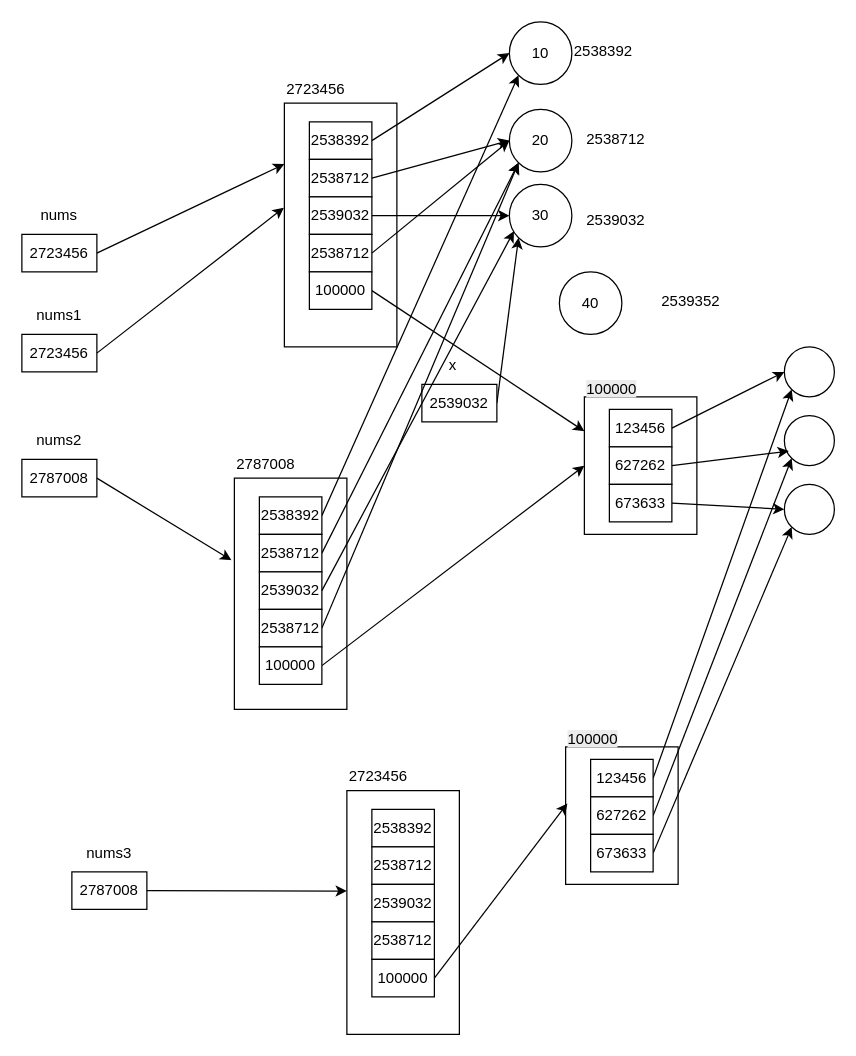
The diagram is 856 pixels wide and 1056 high, and some of its shapes have lost their labels. Here are the shapes that lost their labels. From the top down, the box of each, then its label:
(783, 346, 834, 397): vinod
(783, 414, 834, 466): shyam
(783, 483, 834, 534): murali
